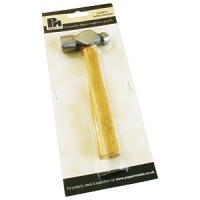hammer: (57, 27, 121, 160)
